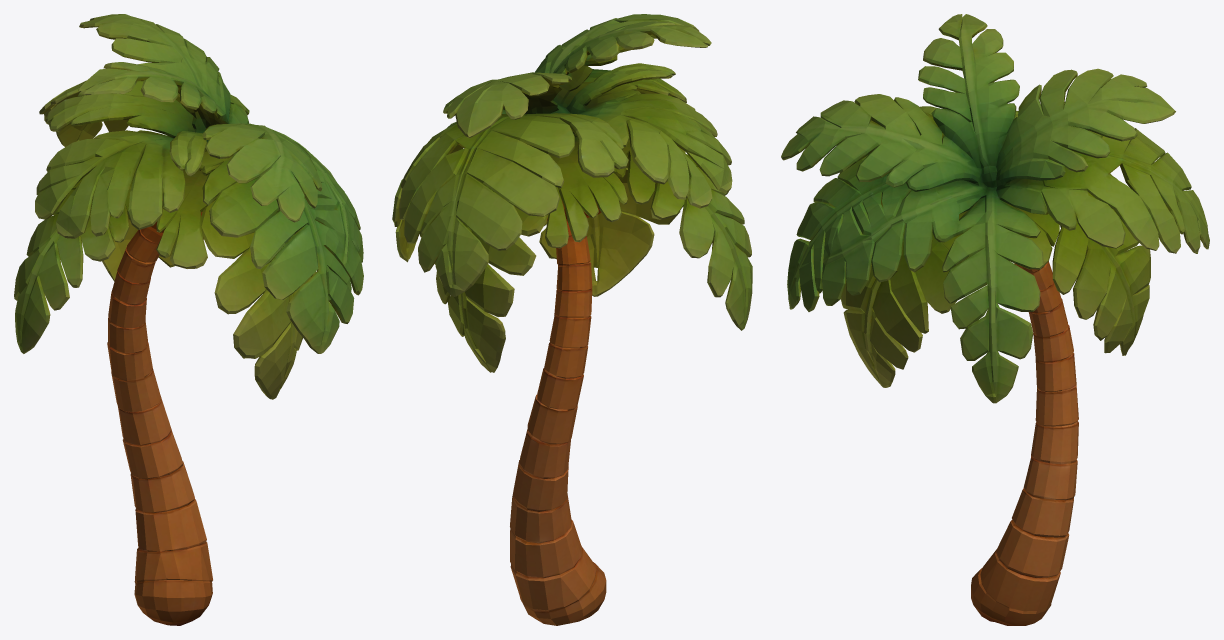
File: tripo_convert_2e235afd-715b-4879-a5ea-67b106b2ec01.fbx
The picture shows the model from 3 angles, left to right: view 1: azimuth 30°, elevation 25°; view 2: azimuth 150°, elevation 25°; view 3: azimuth 270°, elevation 25°; orthographic projection. The views are drawn at different scales.
Parts seen in each view (by area): view 1: tripo_node_2e235afd; view 2: tripo_node_2e235afd; view 3: tripo_node_2e235afd.
Boxes of the visible parts, x1=… form: tripo_node_2e235afd: x1=14, y1=14, x2=363, y2=625; tripo_node_2e235afd: x1=392, y1=14, x2=752, y2=625; tripo_node_2e235afd: x1=781, y1=14, x2=1209, y2=625.
Size of the model in its own units: 0.6027 by 0.9981 by 0.6986.
1 material, 1 textured.
